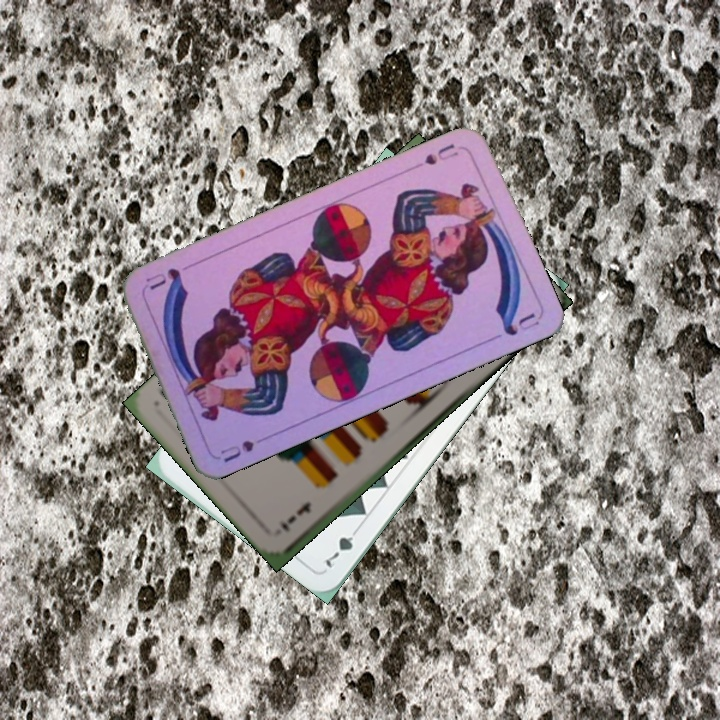E7: (277, 498, 314, 535)
G7: (321, 521, 363, 571)
SU: (216, 431, 273, 466), (408, 139, 462, 172)
